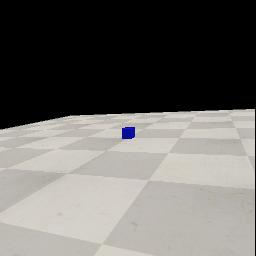box: (122, 127, 135, 139)
